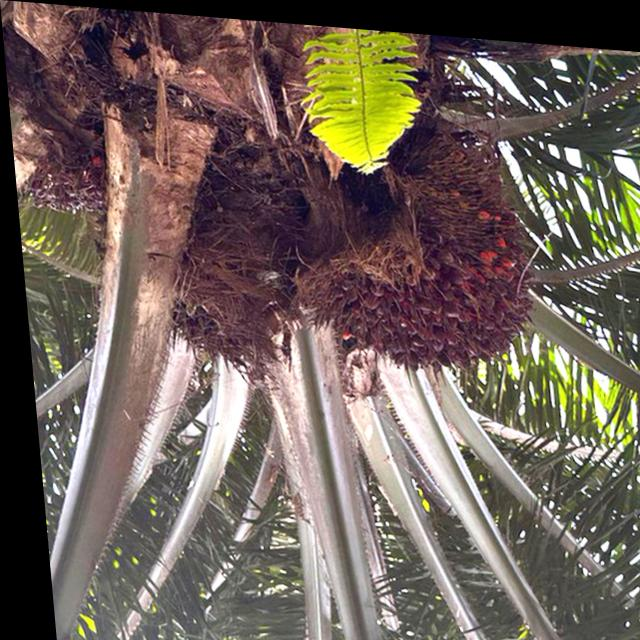ripe: (278, 119, 540, 381), (156, 273, 288, 389), (19, 127, 113, 227)
